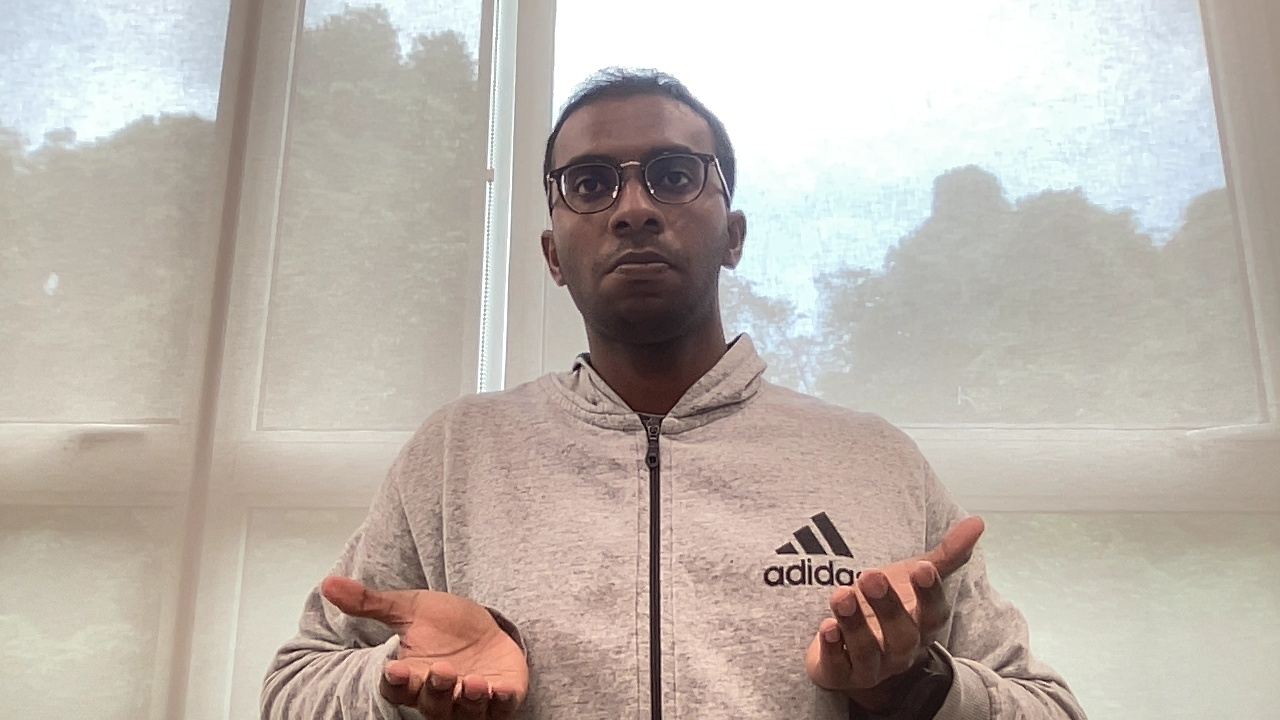give: (316, 512, 995, 712)
